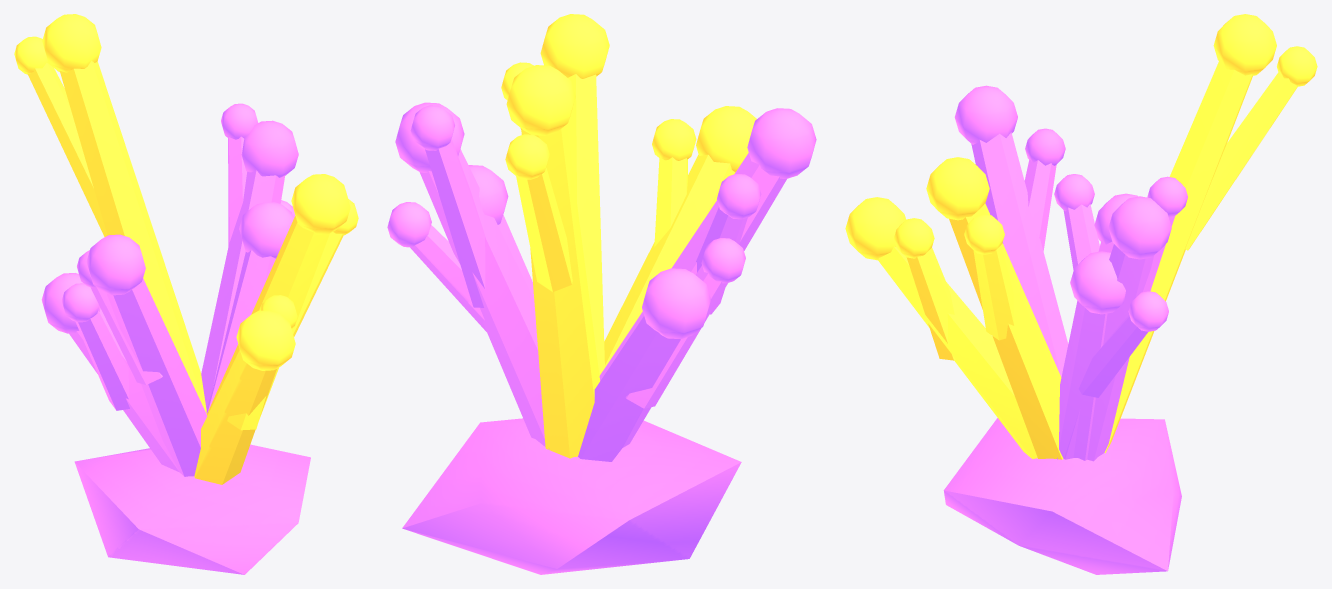
Rendered from mu_coral_branch_b.glb.
3 views of the same model, side by side, from view 1: azimuth 30°, elevation 25°; view 2: azimuth 150°, elevation 25°; view 3: azimuth 270°, elevation 25° (orthographic). The views are drawn at different scales.
Parts seen in each view (by area): view 1: mu_coral_branch_b; view 2: mu_coral_branch_b; view 3: mu_coral_branch_b.
Part boxes in pixels (box(x1,y1,x2,y2)): mu_coral_branch_b: box(14, 14, 358, 574); mu_coral_branch_b: box(387, 14, 816, 574); mu_coral_branch_b: box(845, 14, 1317, 574).
Size of the model in its own units: 1.5 by 2.54 by 2.08.
2 materials, 2 textured.
